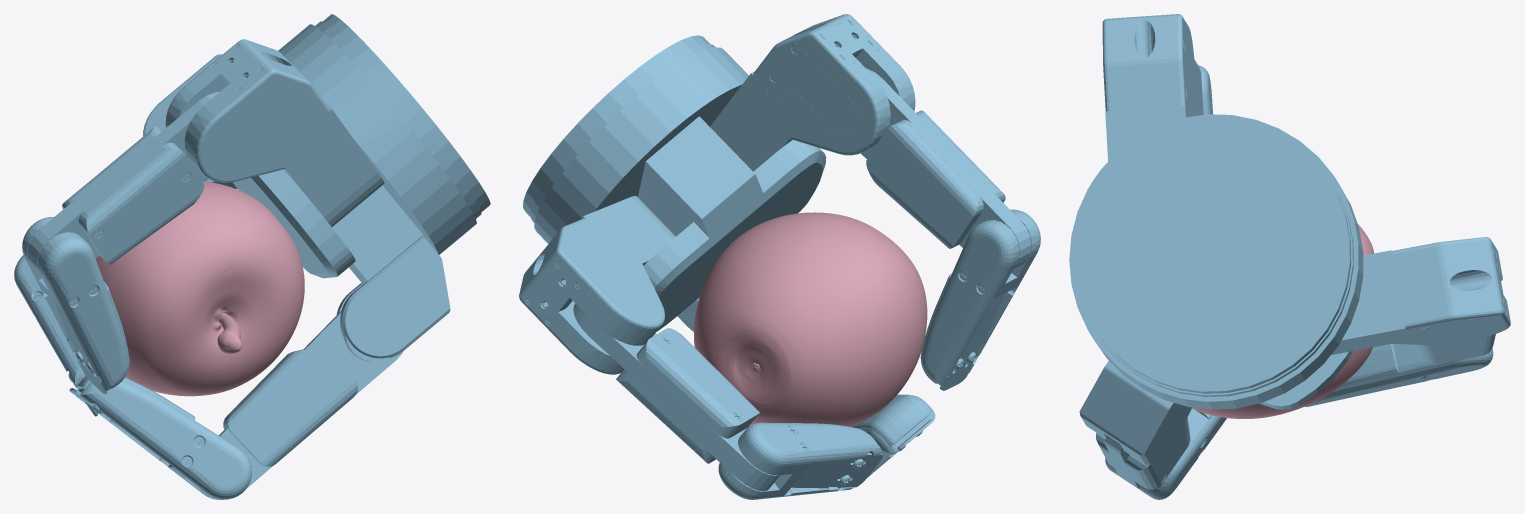
3 views of the same model, side by side, from view 1: azimuth 30°, elevation 25°; view 2: azimuth 150°, elevation 25°; view 3: azimuth 270°, elevation 25° (orthographic). The views are drawn at different scales.
Parts seen in each view (by area): view 1: world; view 2: world; view 3: world.
Part boxes in pixels (x1,y1,x2,y2): world: (14,14,490,499); world: (519,14,1040,499); world: (1069,14,1510,499).
Bounding box in the file's own units: 0.1792 × 0.1683 × 0.1351.
